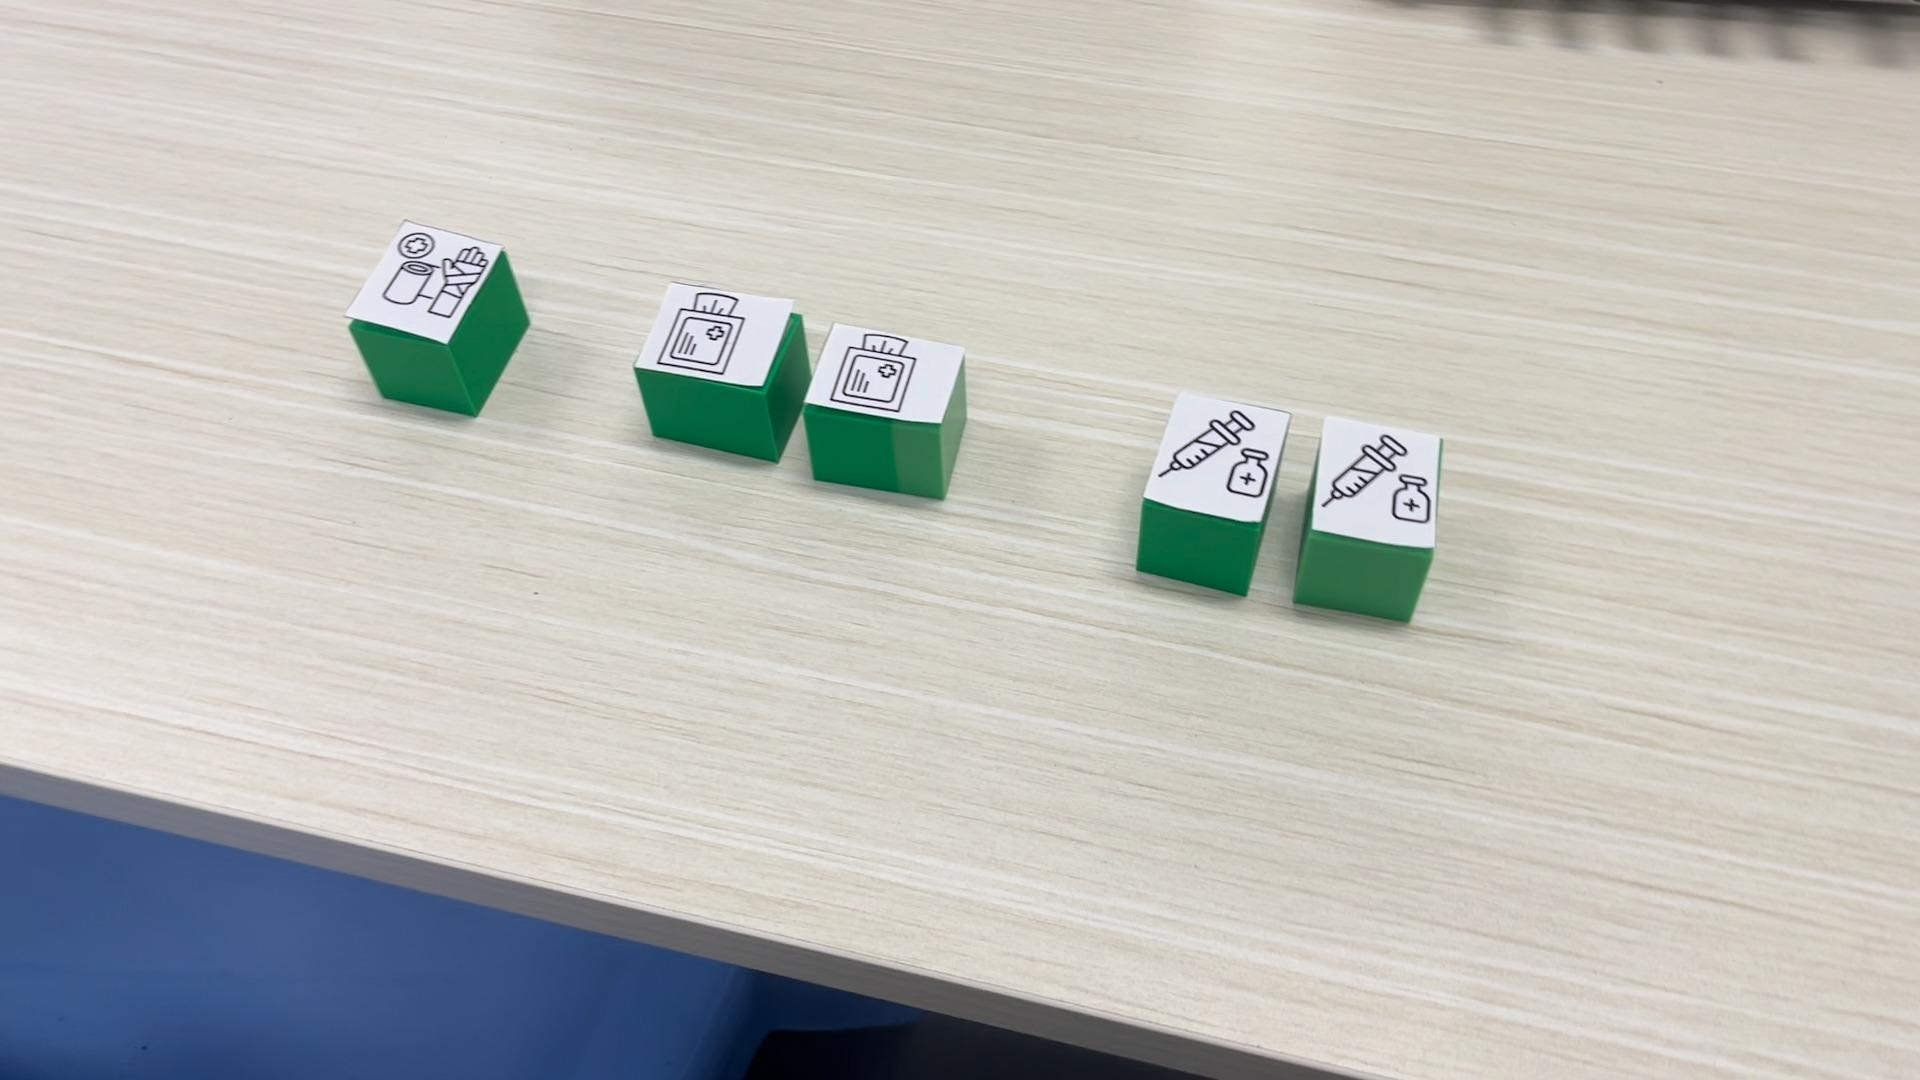Bandages: (344, 220, 530, 417)
Gauze: (628, 276, 815, 465), (802, 318, 969, 505)
antiseptic cream: (1135, 388, 1308, 603), (1294, 401, 1443, 624)
